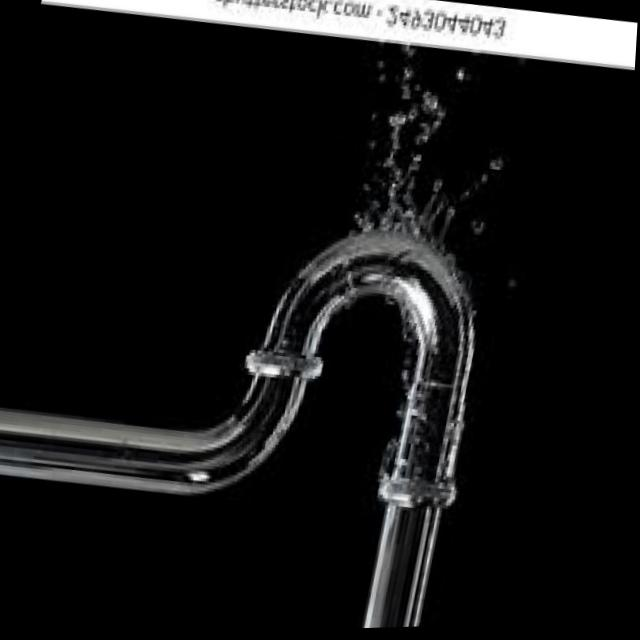leak: (290, 54, 623, 466)
